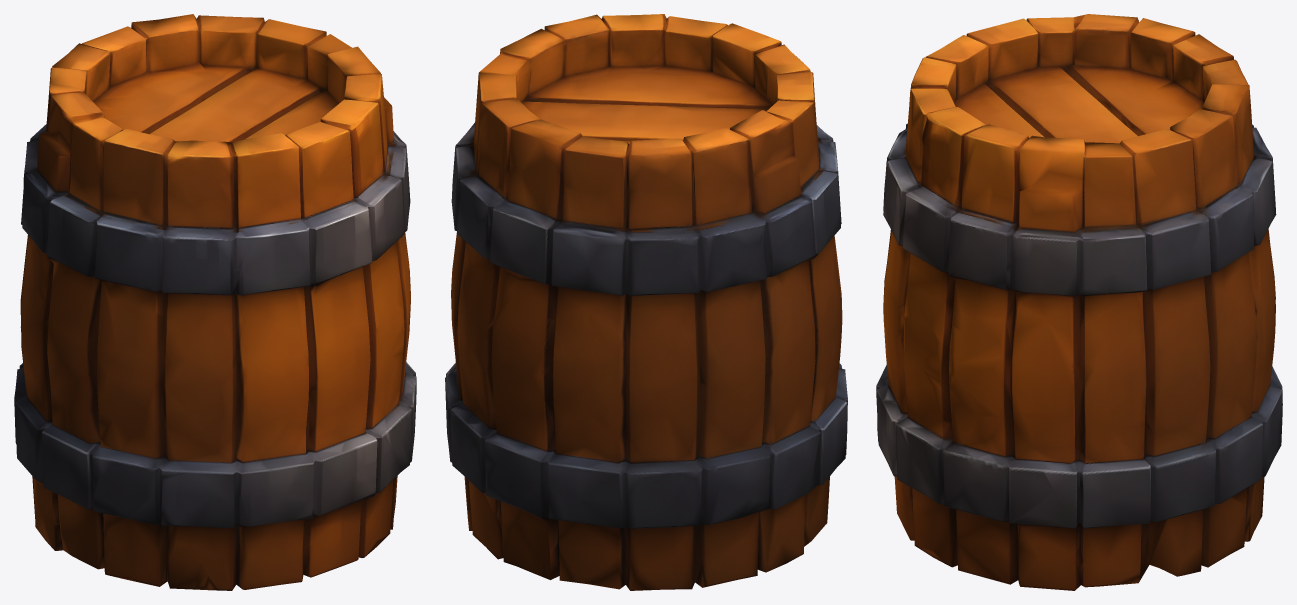
Rendered from wooden-barrel.glb.
3 renders of one model, left to right at view 1: azimuth 30°, elevation 25°; view 2: azimuth 150°, elevation 25°; view 3: azimuth 270°, elevation 25°, orthographic.
Parts seen in each view (by area): view 1: tripo_node_fd15e16c-27cc-44a2-b9c2-6c5538ba0edb; view 2: tripo_node_fd15e16c-27cc-44a2-b9c2-6c5538ba0edb; view 3: tripo_node_fd15e16c-27cc-44a2-b9c2-6c5538ba0edb.
Part boxes in pixels (x1,y1,x2,y2): tripo_node_fd15e16c-27cc-44a2-b9c2-6c5538ba0edb: (14, 14, 416, 590); tripo_node_fd15e16c-27cc-44a2-b9c2-6c5538ba0edb: (445, 14, 847, 590); tripo_node_fd15e16c-27cc-44a2-b9c2-6c5538ba0edb: (876, 14, 1282, 590).
Bounding box in the file's own units: 0.5528 × 0.65 × 0.554.
1 material, 1 textured.
